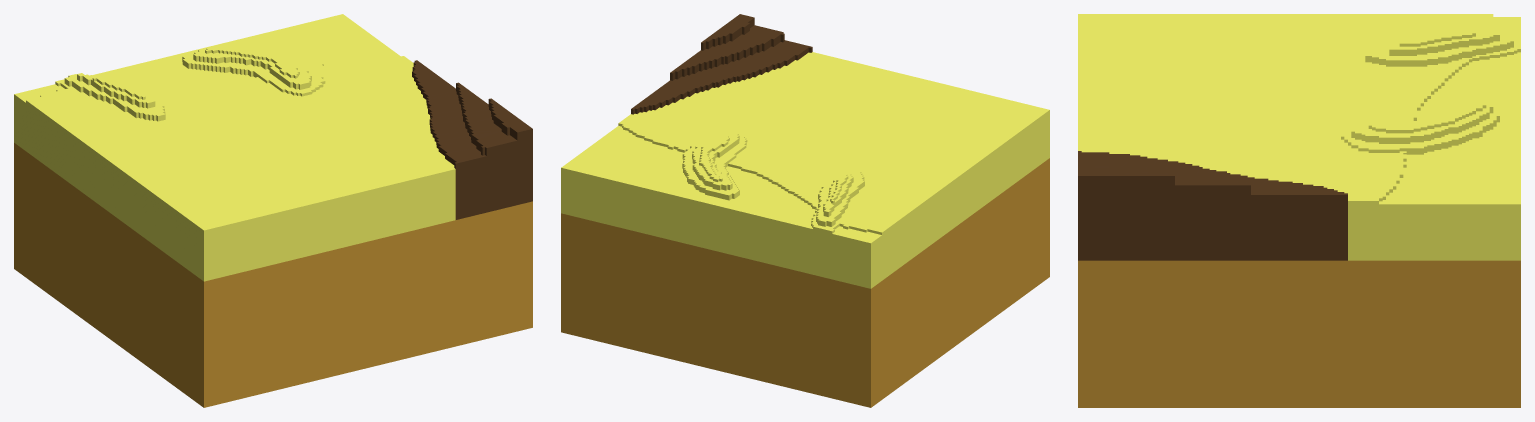
3 views of the same model, side by side, from view 1: azimuth 30°, elevation 25°; view 2: azimuth 150°, elevation 25°; view 3: azimuth 270°, elevation 25° (orthographic). The views are drawn at different scales.
Visible parts, largest first — view 1: 1P; view 2: 1P; view 3: 1P.
Boxes of the visible parts, x1=… form: 1P: x1=14, y1=14, x2=532, y2=407; 1P: x1=561, y1=14, x2=1049, y2=407; 1P: x1=1078, y1=14, x2=1520, y2=407.
Size of the model in its own units: 12.8 by 7.4 by 12.8.
Materials: 1 (1 with a texture image).
